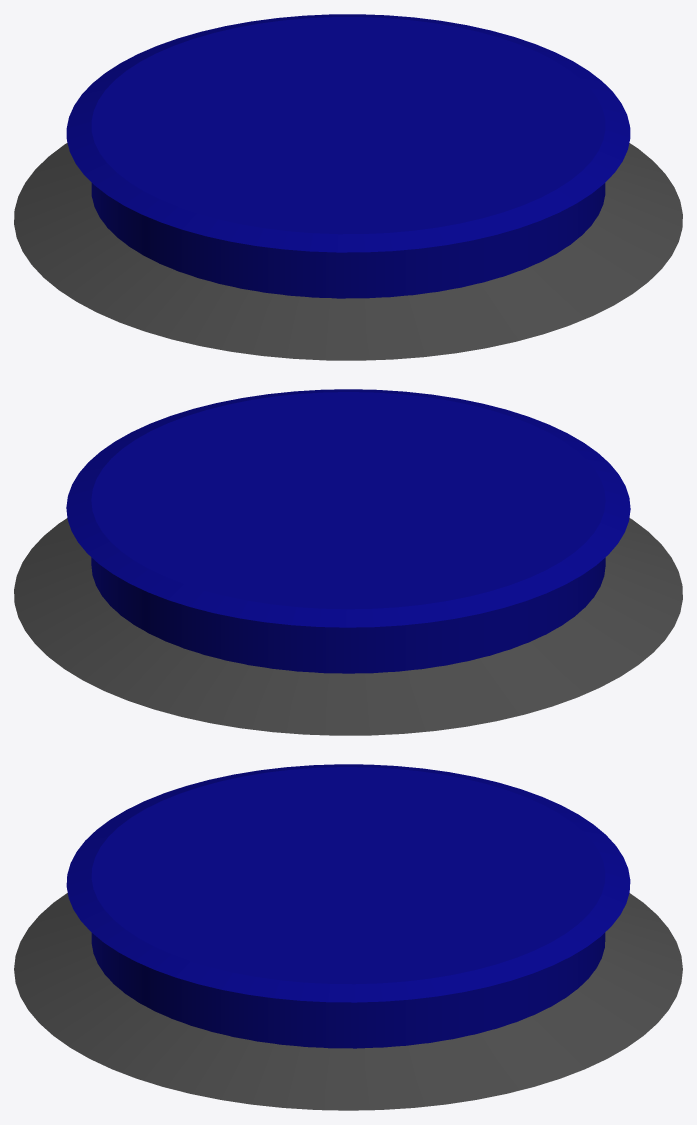
File: BotonAzul.FBX
The picture shows the model from 3 angles, top to bottom: view 1: azimuth 30°, elevation 25°; view 2: azimuth 150°, elevation 25°; view 3: azimuth 270°, elevation 25°; orthographic projection.
Visible parts, largest first — view 1: Cylinder001, Cone001; view 2: Cylinder001, Cone001; view 3: Cylinder001, Cone001.
Part boxes in pixels (box(x1,y1,x2,y2)): Cylinder001: box(66, 14, 630, 298); Cone001: box(14, 143, 682, 360); Cylinder001: box(66, 389, 630, 673); Cone001: box(14, 518, 682, 735); Cylinder001: box(66, 764, 630, 1048); Cone001: box(14, 893, 682, 1110).
Size of the model in its own units: 1136 by 176 by 1136.
